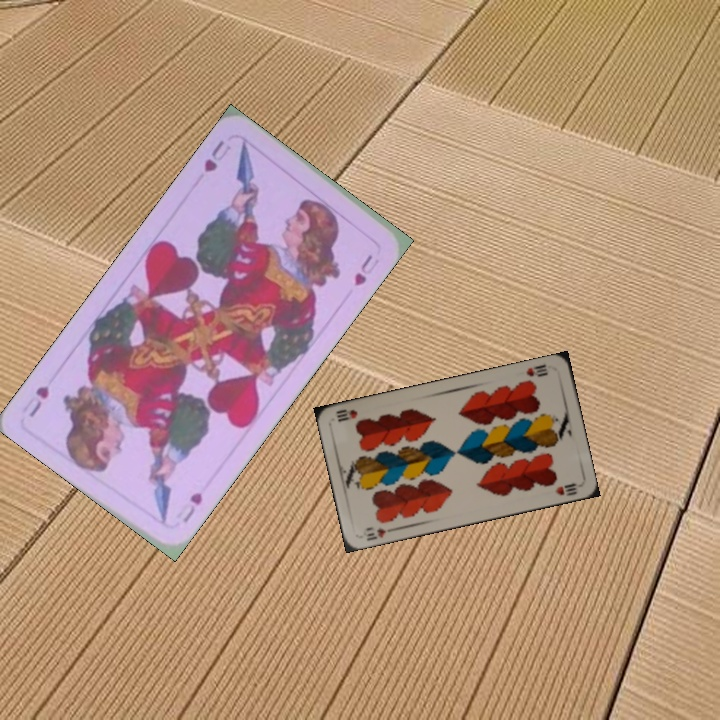H10: (362, 523, 398, 543), (522, 360, 550, 380)
HU: (200, 135, 234, 175), (178, 488, 205, 525)
